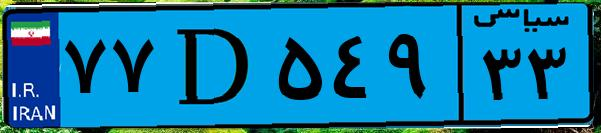3: (475, 38, 525, 113), (525, 38, 570, 115)
4: (330, 28, 385, 110)
5: (270, 28, 330, 110)
7: (57, 26, 110, 100), (110, 28, 158, 98)
9: (385, 28, 445, 110)
D: (158, 12, 270, 120)
